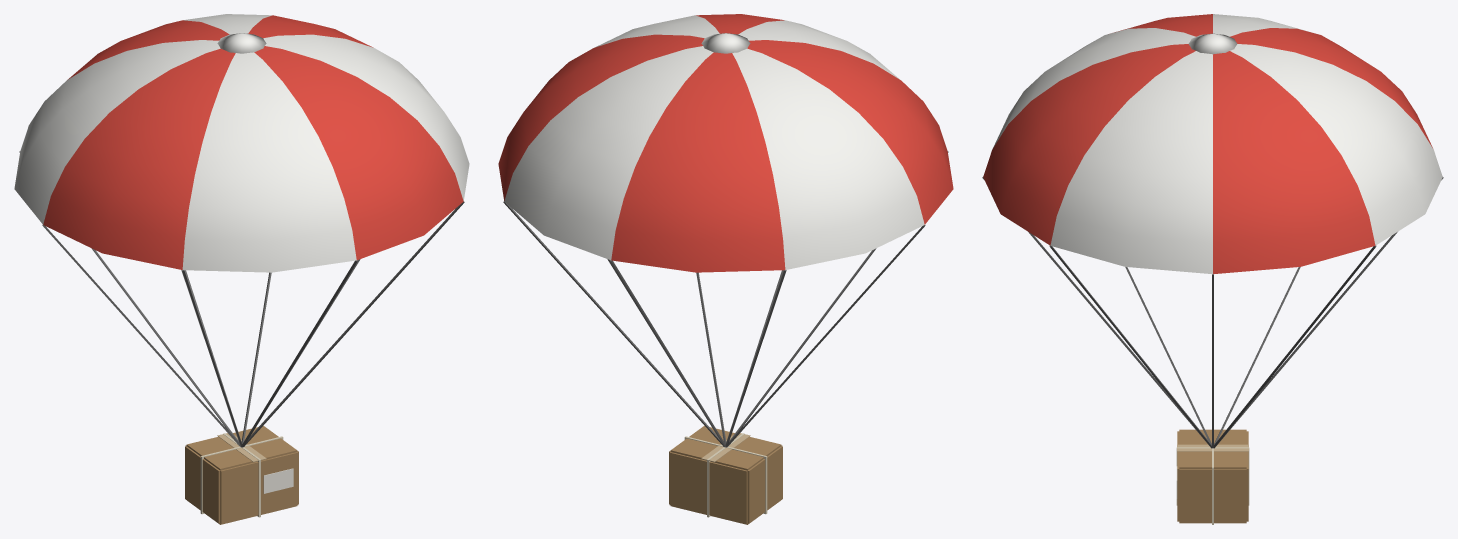
Rendered from parcel.glb.
3 views of the same model, side by side, from view 1: azimuth 30°, elevation 25°; view 2: azimuth 150°, elevation 25°; view 3: azimuth 270°, elevation 25° (orthographic).
Parts seen in each view (by area): view 1: chute_mesh, box; view 2: chute_mesh, box; view 3: chute_mesh, box.
Boxes of the visible parts, x1=… form: chute_mesh: x1=14, y1=14, x2=469, y2=447; box: x1=185, y1=425, x2=298, y2=524; chute_mesh: x1=498, y1=14, x2=953, y2=447; box: x1=669, y1=425, x2=782, y2=524; chute_mesh: x1=982, y1=14, x2=1443, y2=448; box: x1=1176, y1=429, x2=1249, y2=524.
Bounding box in the file's own units: 2.99 × 3.37 × 2.99.
